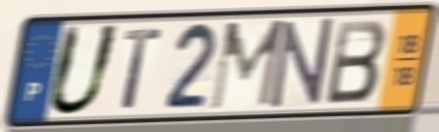2: (163, 19, 220, 114)
B: (323, 17, 389, 107)
M: (206, 17, 288, 115)
N: (268, 14, 336, 112)
T: (120, 26, 164, 112)
U: (43, 22, 125, 119)
